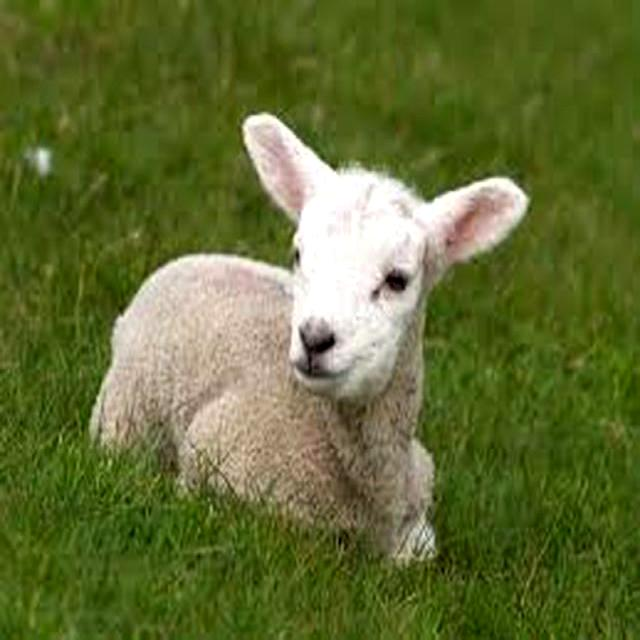sheep: (82, 110, 532, 561)
